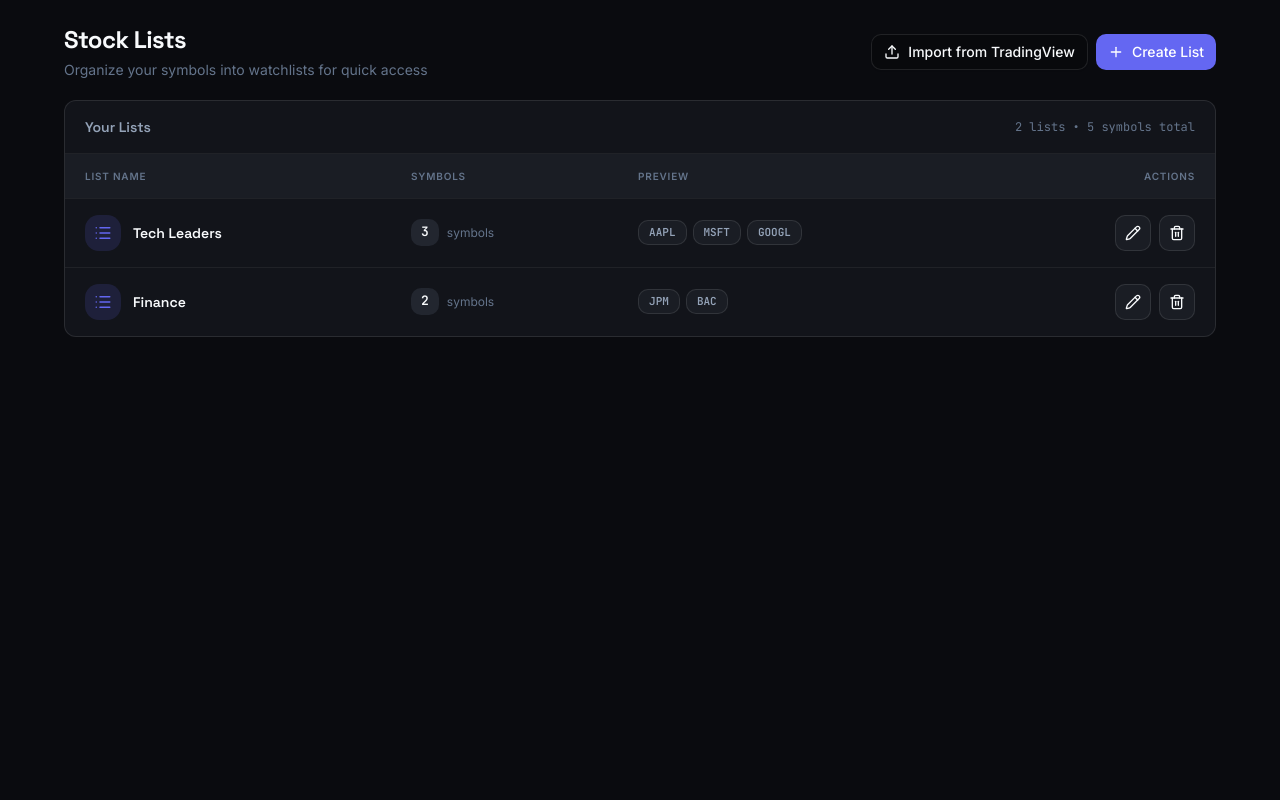
Test: StockLists Page › Delete Dialog › opens delete confirmation dialog when Delete button is clicked
The image size is (1280, 800).
Click the button named "delete tech leaders": (1177, 232) [1159,214,1195,250]
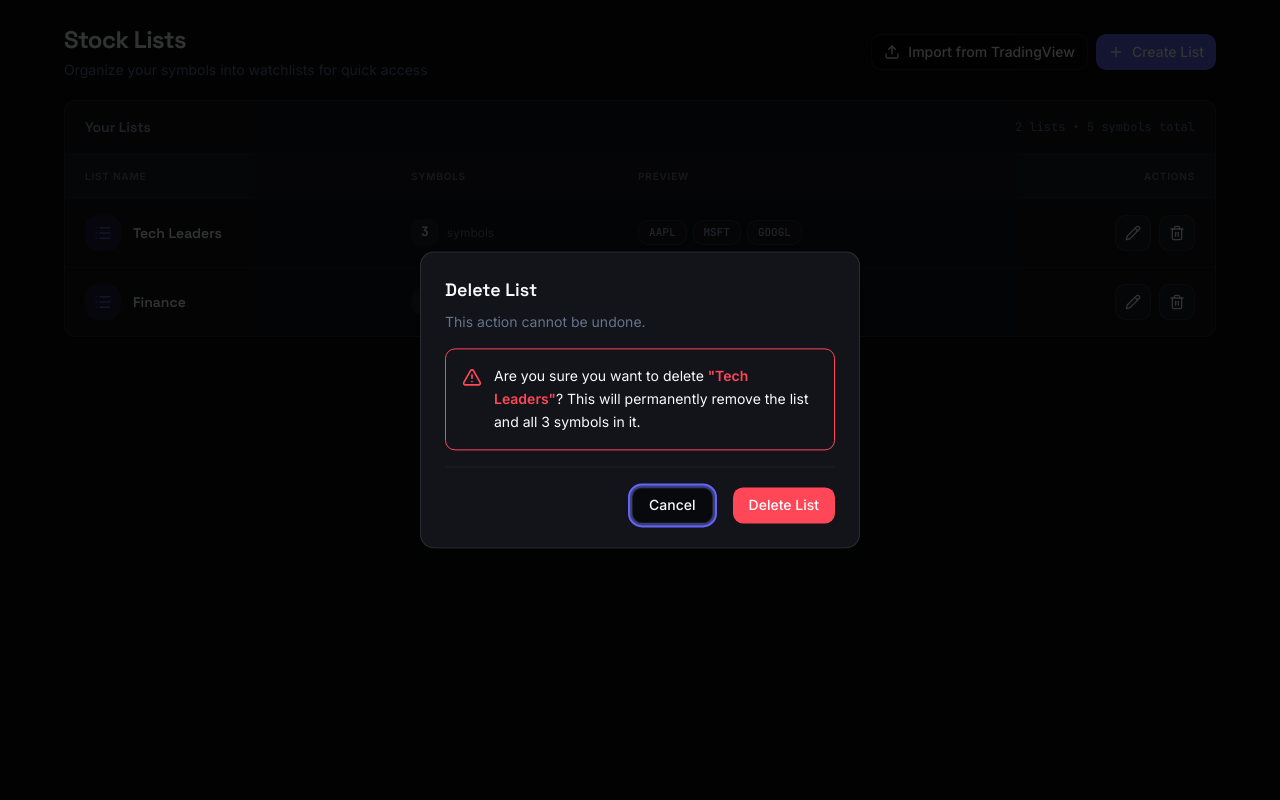
Expected: the dialog is shown, [420,251,860,549]
Expected: the text "Are you sure you want to delete" is shown, [494,367,704,384]
